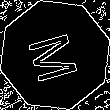M_E: (24, 26, 86, 84)
